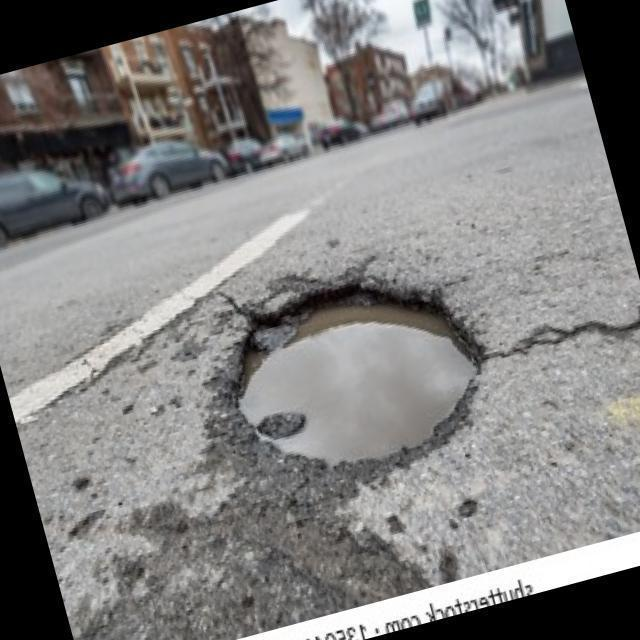Pothole: (239, 283, 481, 467)
